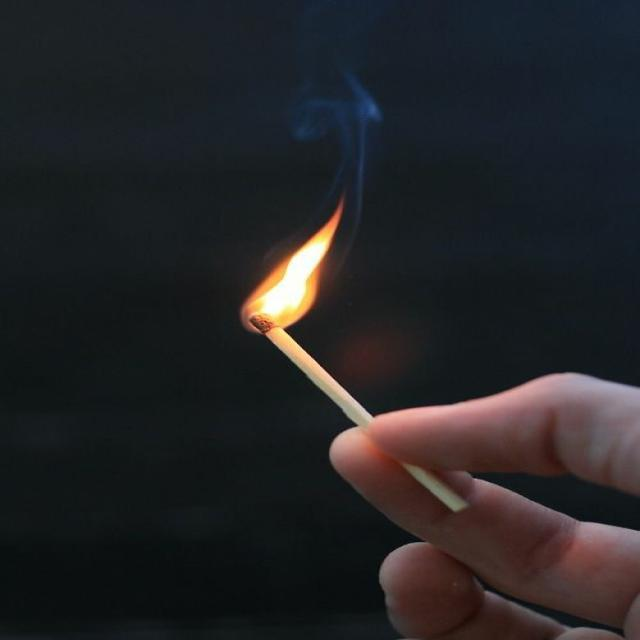Fire: (192, 206, 381, 357)
